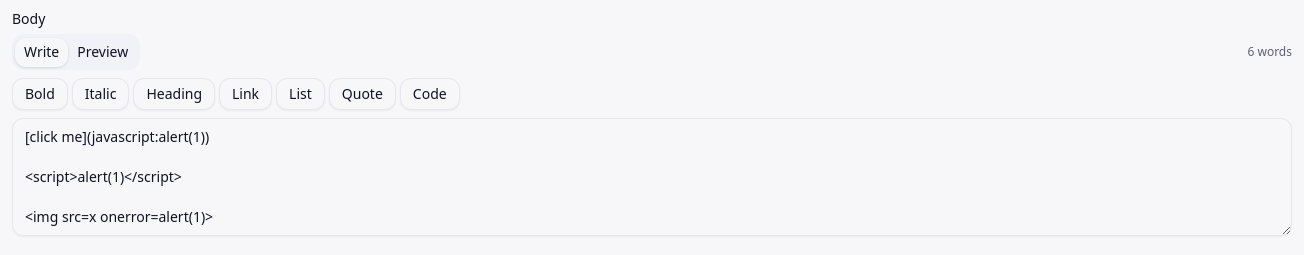
Test: a markdown field › neutralises a javascript: link and a raw script tag in the preview
The width and height of the screenshot is (1304, 255).
Press the mouse on the tab "Preview" at (103, 52), box x1=68 y1=38 x2=137 y2=66
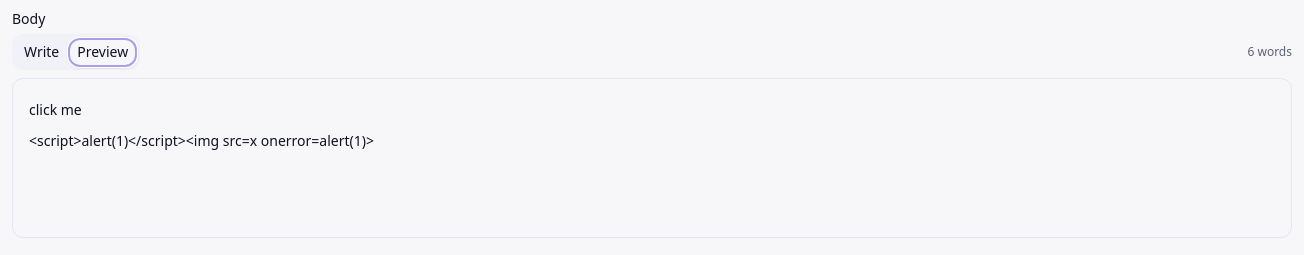
Expected: the panel named "Preview" shows "click me", x1=29 y1=100 x2=82 y2=119
